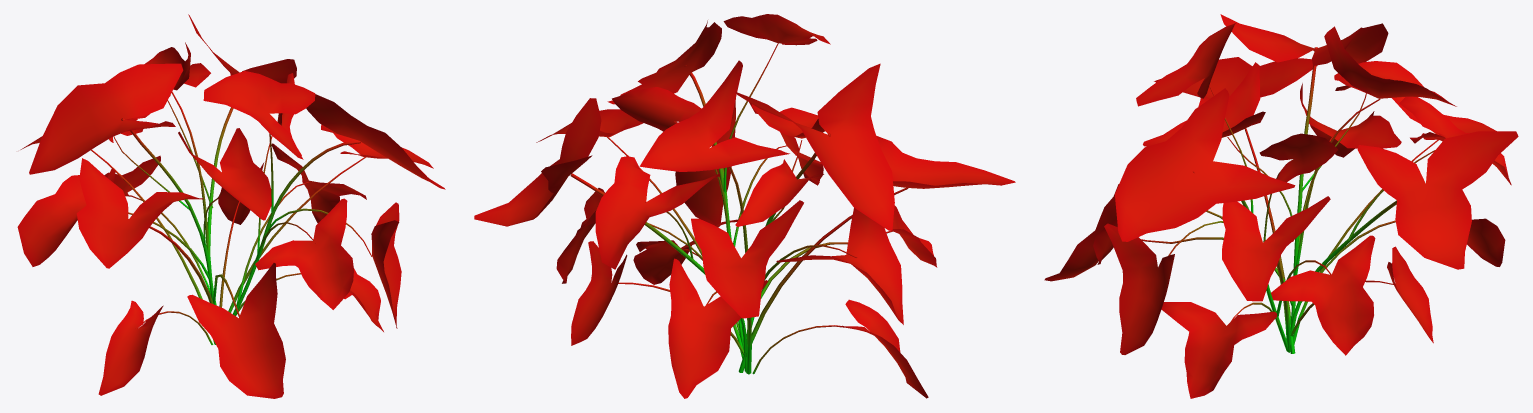
File: PlantFern05.fbx
3 renders of one model, left to right at view 1: azimuth 30°, elevation 25°; view 2: azimuth 150°, elevation 25°; view 3: azimuth 270°, elevation 25°, orthographic. The views are drawn at different scales.
Visible parts, largest first — view 1: _8976_Var5_LOD0; view 2: _8976_Var5_LOD0; view 3: _8976_Var5_LOD0.
Boxes of the visible parts, x1,y1,x2,y2 form: _8976_Var5_LOD0: (17,14,445,398); _8976_Var5_LOD0: (474,14,1015,398); _8976_Var5_LOD0: (1044,14,1518,398).
Size of the model in its own units: 77.33 by 58.74 by 77.83.
